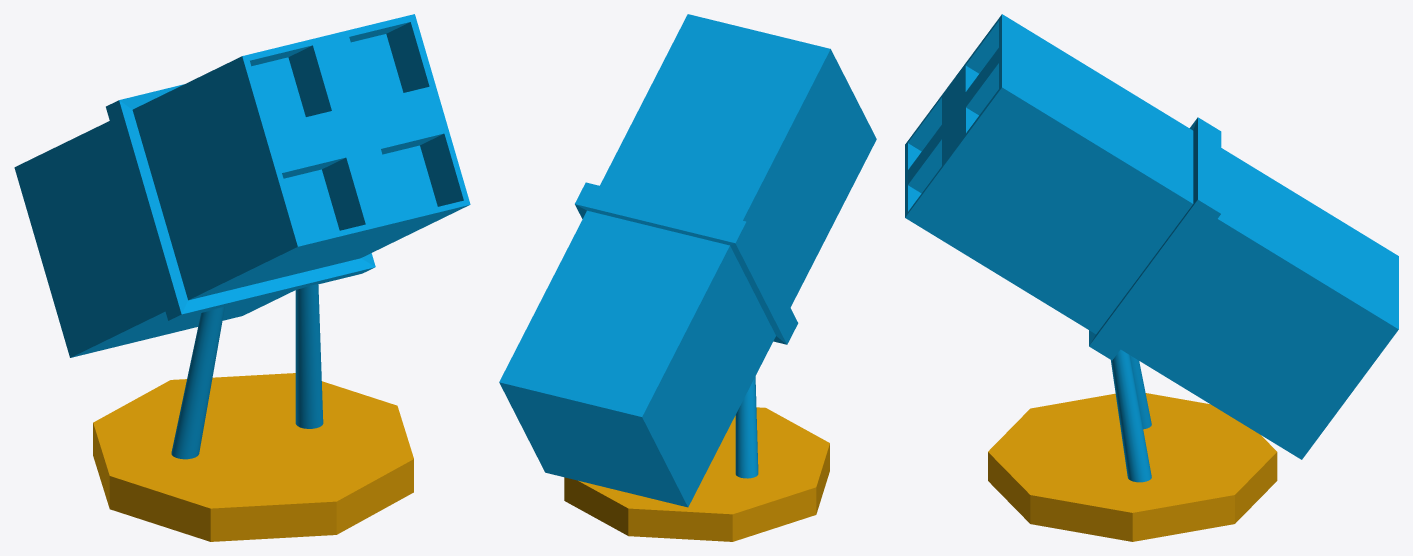
File: Rocketlauncher_samsite_old.fbx
The picture shows the model from 3 angles, left to right: view 1: azimuth 30°, elevation 25°; view 2: azimuth 150°, elevation 25°; view 3: azimuth 270°, elevation 25°; orthographic projection. The views are drawn at different scales.
Visible parts, largest first — view 1: samssite2_RocketLauncher_loepoly, samsite_Rocketlauncher_lowpoly_base2; view 2: samssite2_RocketLauncher_loepoly, samsite_Rocketlauncher_lowpoly_base2; view 3: samssite2_RocketLauncher_loepoly, samsite_Rocketlauncher_lowpoly_base2.
Boxes of the visible parts, x1=… form: samssite2_RocketLauncher_loepoly: x1=14, y1=14, x2=470, y2=459; samsite_Rocketlauncher_lowpoly_base2: x1=93, y1=373, x2=413, y2=541; samssite2_RocketLauncher_loepoly: x1=499, y1=14, x2=876, y2=507; samsite_Rocketlauncher_lowpoly_base2: x1=564, y1=407, x2=829, y2=541; samssite2_RocketLauncher_loepoly: x1=905, y1=14, x2=1398, y2=482; samsite_Rocketlauncher_lowpoly_base2: x1=988, y1=393, x2=1277, y2=541.
Size of the model in its own units: 205 by 336 by 350.
